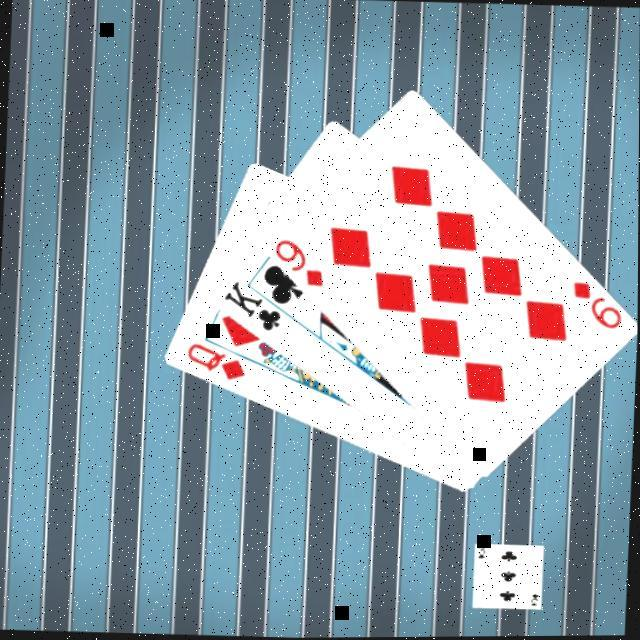9D: (270, 237, 328, 292), (568, 278, 626, 333)
KC: (219, 277, 299, 336)
QD: (183, 341, 250, 385)
